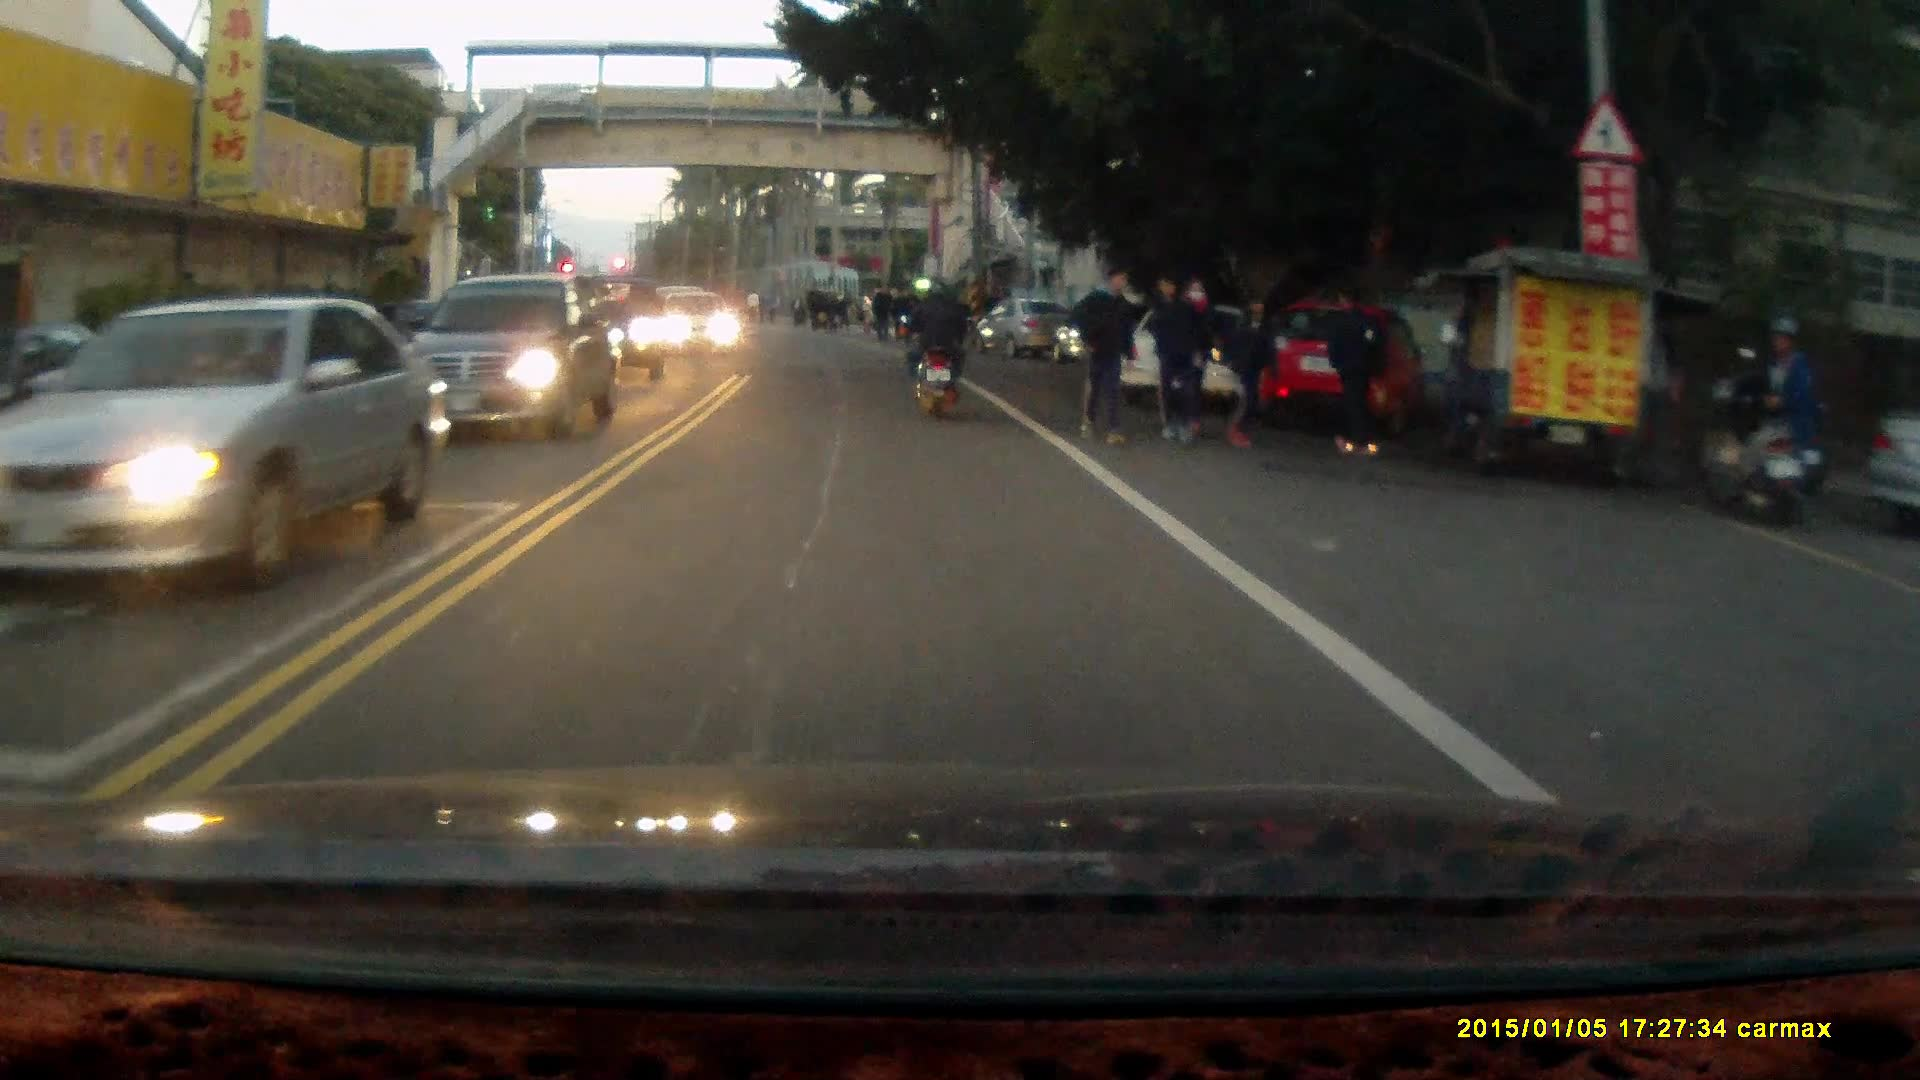pedestrian: (1071, 257, 1144, 449), (1768, 300, 1831, 500), (1320, 285, 1388, 456), (1219, 290, 1284, 452), (1148, 271, 1204, 446)
rider: (898, 275, 971, 424)
vehicle: (16, 297, 441, 604), (411, 273, 620, 439), (1243, 296, 1424, 431), (1116, 299, 1311, 423), (546, 272, 672, 385), (660, 294, 748, 362), (981, 300, 1067, 362)
